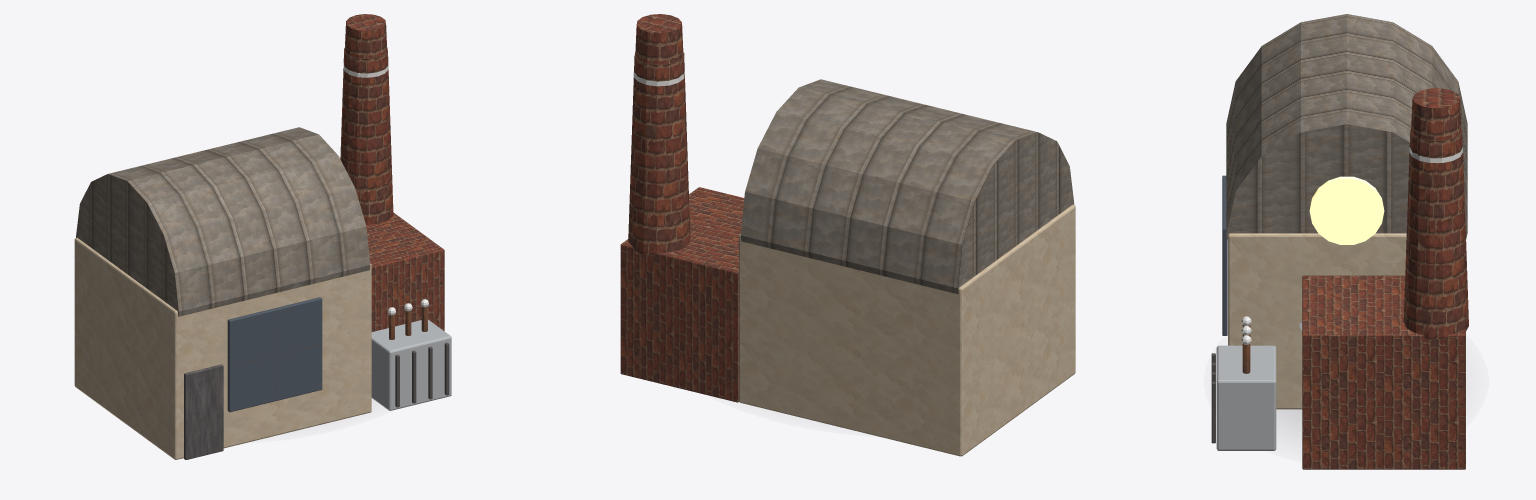
Rendered from power-plant.glb.
The picture shows the model from 3 angles, left to right: view 1: azimuth 30°, elevation 25°; view 2: azimuth 150°, elevation 25°; view 3: azimuth 270°, elevation 25°; orthographic projection. The views are drawn at different scales.
Visible parts, largest first — view 1: hallRoof, hall, bigWin, chimneyLow, boilerHouse, xfmr, door, chimneyTop; view 2: hall, hallRoof, boilerHouse, chimneyLow, chimneyTop; view 3: hallRoof, boilerHouse, hall, chimneyLow, xfmr, gableWin, chimneyTop, bigWin.
Part boxes in pixels (x1=…): hallRoof: x1=76, y1=127, x2=370, y2=316; hall: x1=74, y1=238, x2=371, y2=459; bigWin: x1=227, y1=297, x2=322, y2=412; chimneyLow: x1=340, y1=47, x2=393, y2=224; boilerHouse: x1=366, y1=212, x2=444, y2=331; xfmr: x1=371, y1=319, x2=451, y2=410; door: x1=184, y1=364, x2=223, y2=459; chimneyTop: x1=345, y1=14, x2=387, y2=58; hall: x1=739, y1=204, x2=1075, y2=456; hallRoof: x1=740, y1=79, x2=1074, y2=294; boilerHouse: x1=620, y1=187, x2=744, y2=402; chimneyLow: x1=628, y1=52, x2=690, y2=256; chimneyTop: x1=635, y1=14, x2=683, y2=64; hallRoof: x1=1226, y1=14, x2=1467, y2=239; boilerHouse: x1=1302, y1=275, x2=1465, y2=469; hall: x1=1228, y1=233, x2=1406, y2=409; chimneyLow: x1=1403, y1=129, x2=1468, y2=339; xfmr: x1=1216, y1=345, x2=1276, y2=450; gableWin: x1=1309, y1=176, x2=1384, y2=244; chimneyTop: x1=1411, y1=88, x2=1461, y2=140; bigWin: x1=1222, y1=175, x2=1227, y2=335.
Size of the model in its own units: 6.7 by 5.32 by 4.7.
Materials: 12 (7 with a texture image).
